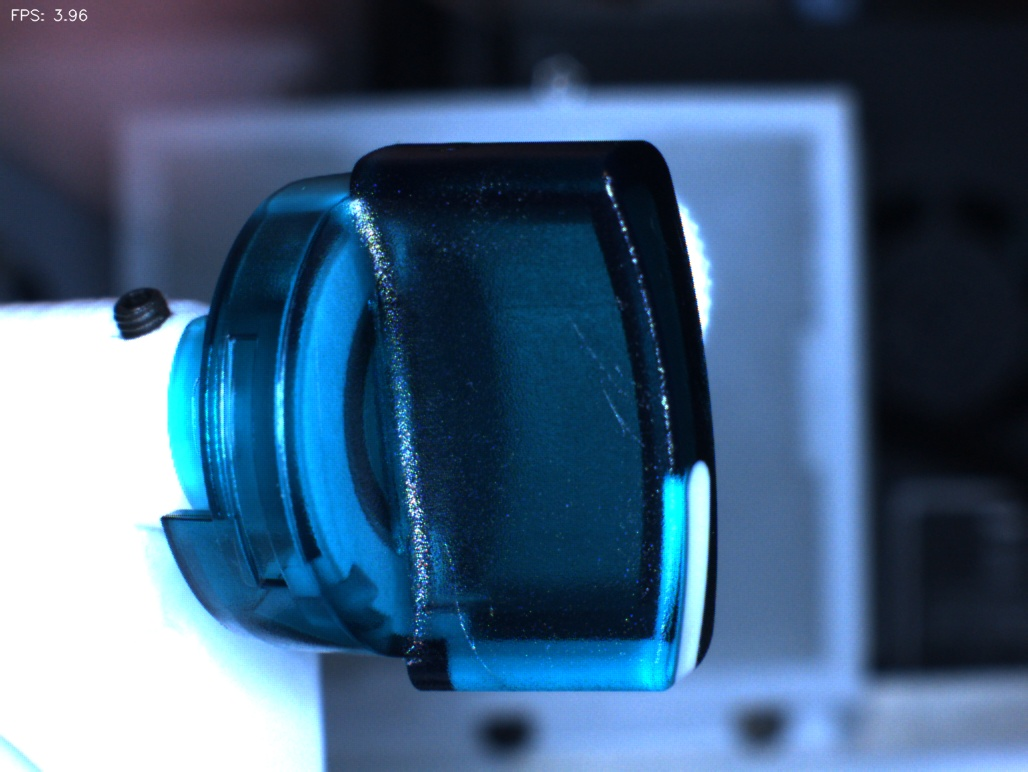Givrage: (560, 307, 657, 457)
